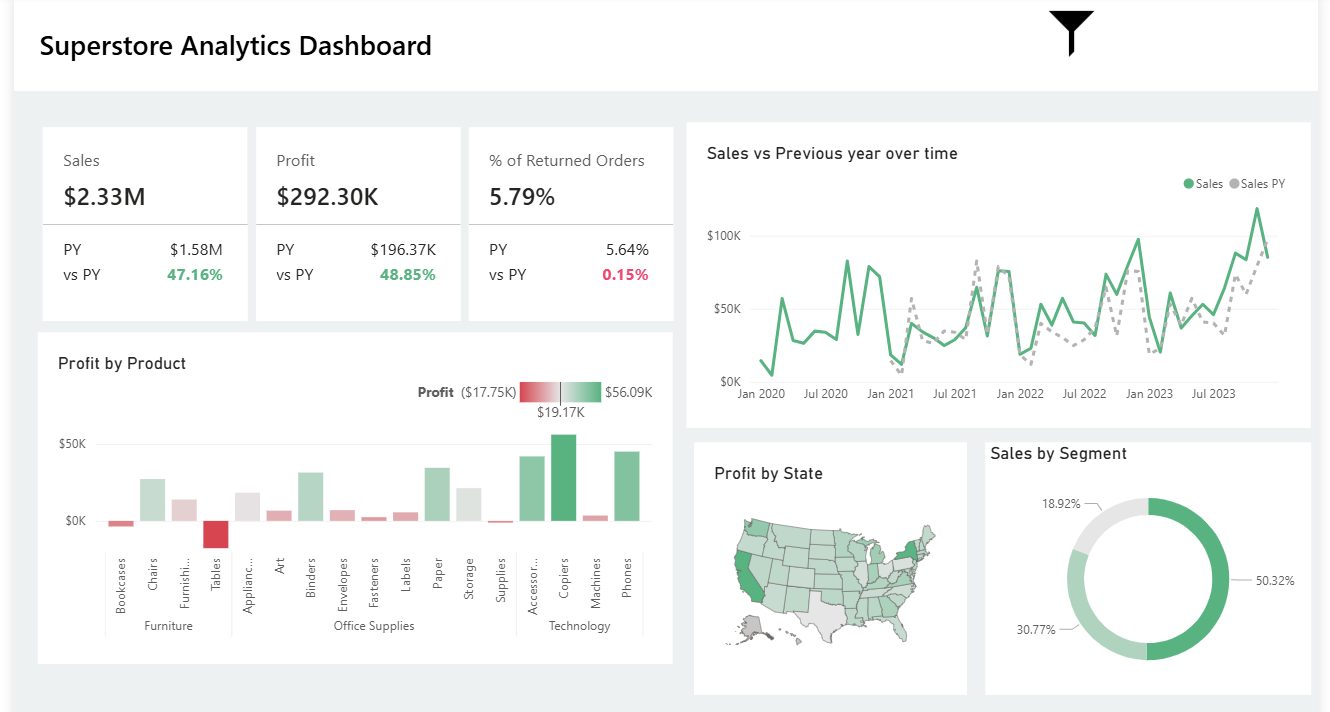

Layout of this report page (visuals, bound fields, positions):
{"tool":"powerbi","page":{"name":"Superstore Analytics Dashboard","canvas":[1280,720],"ordinal":0},"visuals":[{"type":"image","title":"Filter","box":[967.7,0,140.5,74.7],"z":0,"group":"g1"},{"type":"cardVisual","fields":{"Data":["Key Measures.Sales","Key Measures.Profit","Key Measures.% of Returned Orders"]},"box":[23.8,123.8,630,200],"z":0},{"type":"shape","box":[0,0,1280.3,93.3],"z":1000},{"type":"lineChart","title":"Sales vs Previous year over time","fields":{"Y":["Key Measures.Sales","Key Measures.Sales PY"],"Category":["Date table.Start of Month"]},"box":[660,123.8,612.5,300],"z":2000},{"type":"columnChart","title":"Profit by Product","fields":{"Category":["Orders.Category","Orders.Sub-Category"],"Y":["Key Measures.Profit"]},"box":[23.3,330,623.3,325.6],"z":3000},{"type":"shapeMap","title":"Profit by State","fields":{"Value":["Key Measures.Profit"],"Category":["Orders.State/Province"]},"box":[667.1,438,268.4,248.1],"z":4000},{"type":"donutChart","fields":{"Category":["Orders.Segment"],"Y":["Key Measures.Sales"]},"box":[953.2,438,320.3,248.1],"z":5000},{"type":"group","id":"g1","title":"Slicer panel","box":[653.9,0,625.3,455.7],"z":6000}]}

Visuals, with their boxes on the page's 1280x720 design canvas (x1, y1, x2, y2). These are canvas units, not pixel positions in the 1330x712 screenshot, which may show the page scaled, cropped or inside an application window:
"Filter" image: 968:0:1108:75
cardVisual - Key Measures.Sales x Key Measures.Profit: 24:124:654:324
shape: 0:0:1280:93
"Sales vs Previous year over time" lineChart: 660:124:1272:424
"Profit by Product" columnChart: 23:330:647:656
"Profit by State" shapeMap: 667:438:936:686
donutChart - Orders.Segment x Key Measures.Sales: 953:438:1274:686
"Slicer panel" group: 654:0:1279:456
